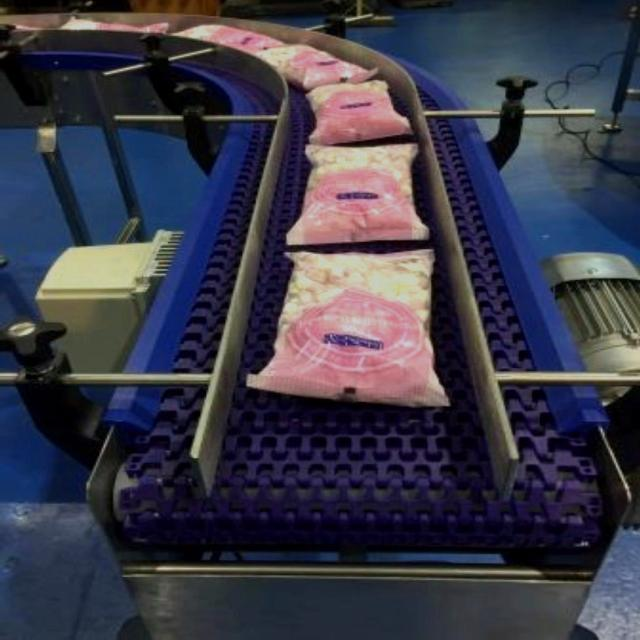food: (253, 243, 464, 407), (283, 142, 431, 246), (302, 78, 415, 145)
